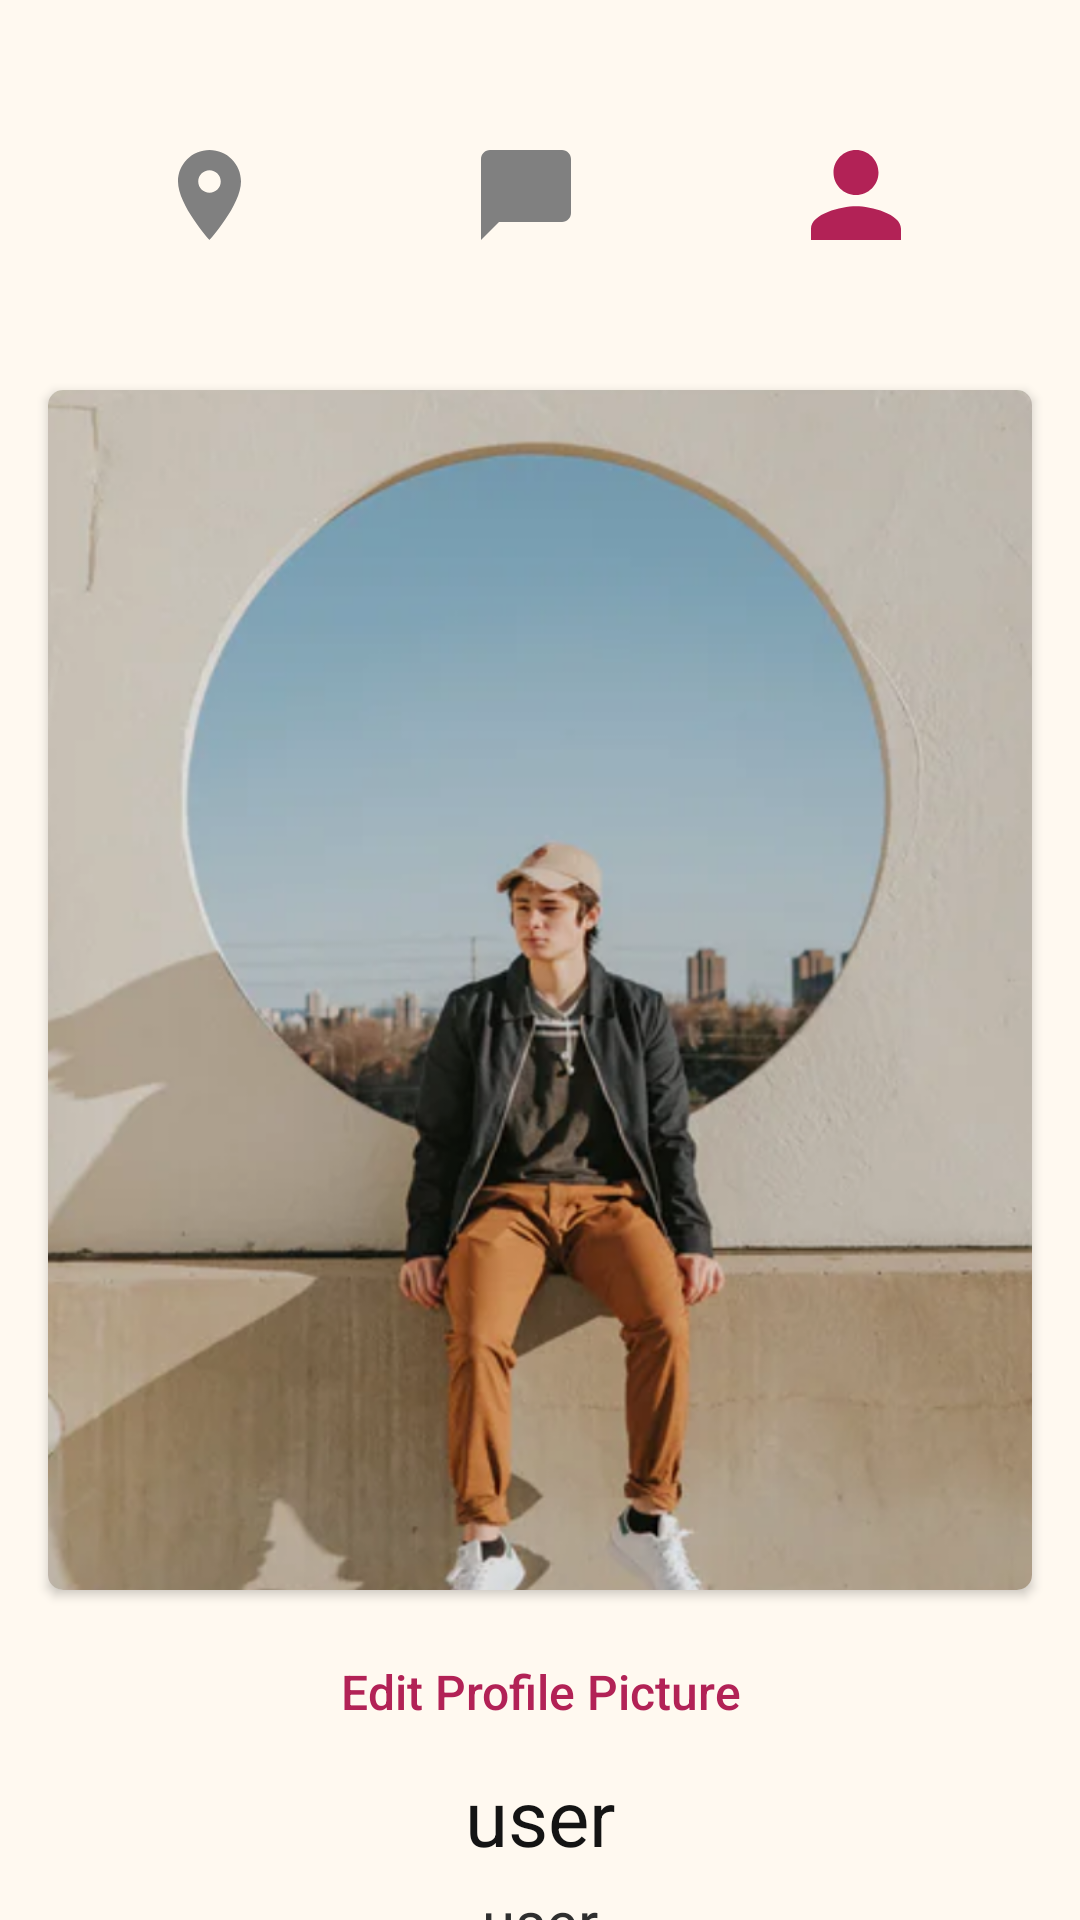

Locate icon controls on the screen. Image size 1080*1920, boxes as (x1, y1, x2, y2).
chat: (481, 150, 571, 240)
location: (178, 150, 241, 240)
profile: (811, 150, 901, 240)
